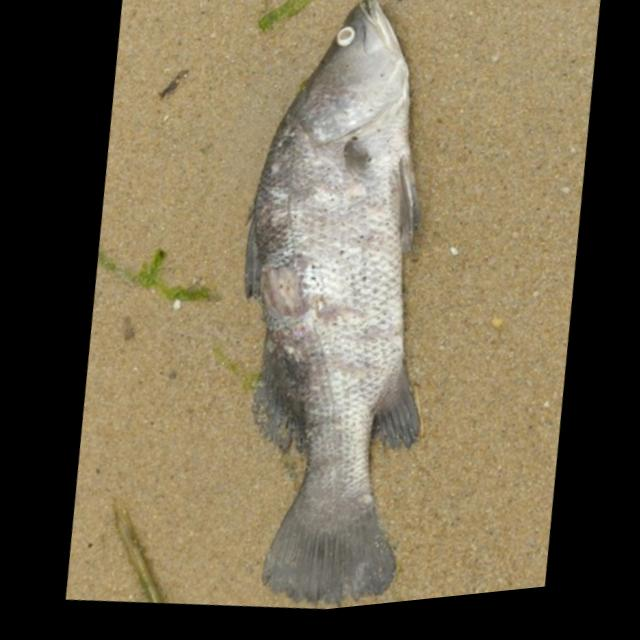Seabass: (184, 0, 490, 621)
